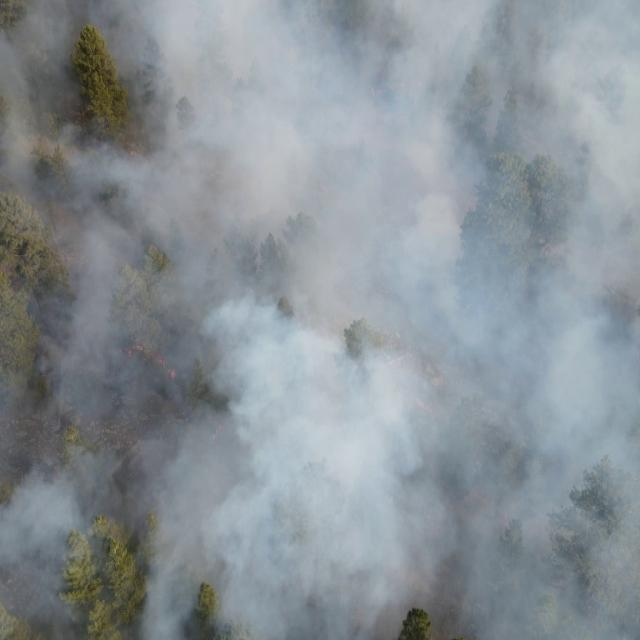fire: (117, 338, 177, 380), (212, 422, 224, 443)
smoke: (144, 0, 640, 640), (0, 205, 69, 640), (72, 131, 142, 549), (0, 0, 72, 201), (120, 1, 144, 129), (72, 1, 121, 28)
